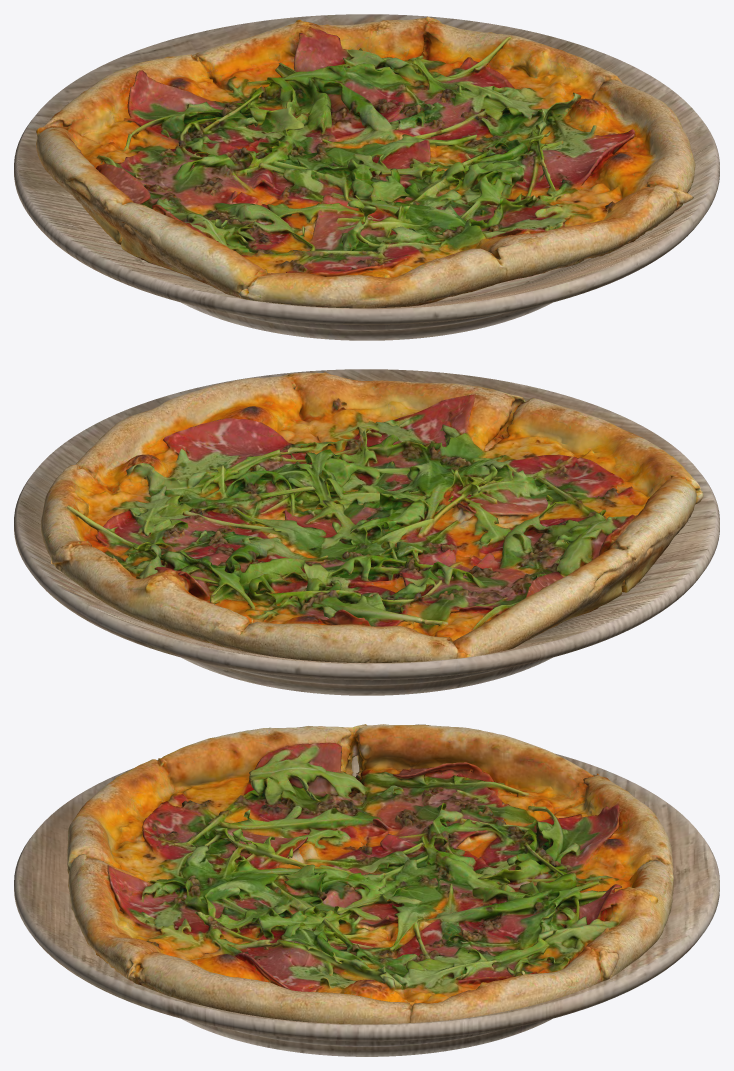
The picture shows the model from 3 angles, top to bottom: view 1: azimuth 30°, elevation 25°; view 2: azimuth 150°, elevation 25°; view 3: azimuth 270°, elevation 25°; orthographic projection.
Parts seen in each view (by area): view 1: pizza, Tarelka001; view 2: pizza, Tarelka001; view 3: pizza, Tarelka001.
Boxes of the visible parts, left/top/right/bottom form: pizza: left=36, top=16, right=695, bottom=308; Tarelka001: left=14, top=14, right=719, bottom=340; pizza: left=41, top=372, right=703, bottom=662; Tarelka001: left=14, top=369, right=719, bottom=695; pizza: left=67, top=724, right=673, bottom=1024; Tarelka001: left=14, top=753, right=719, bottom=1056.
Size of the model in its own units: 0.6031 by 0.1028 by 0.6031.
Materials: 2 (2 with a texture image).
